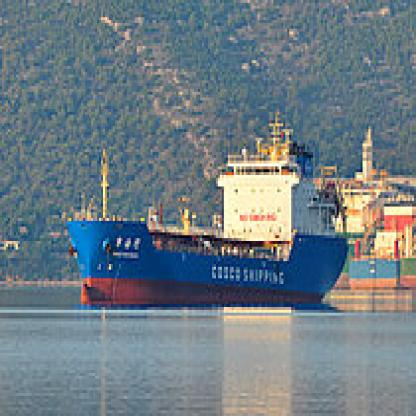Tanker: (55, 106, 348, 319)
